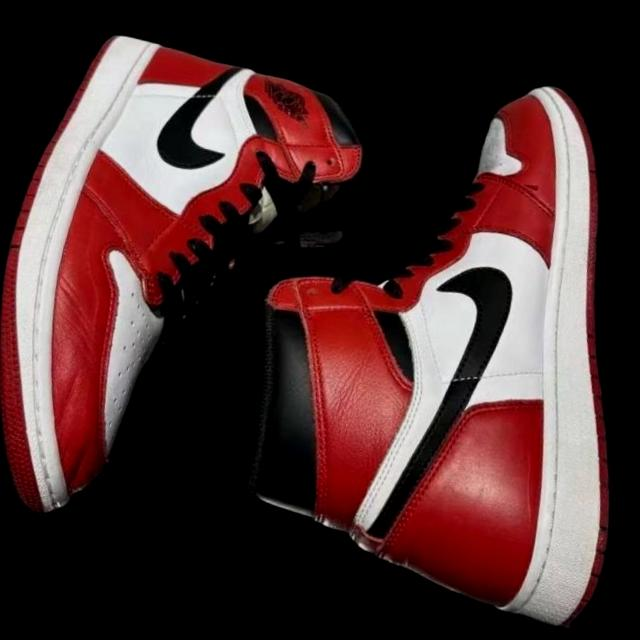nike_original_jordan: (221, 42, 640, 635), (0, 19, 378, 564)
